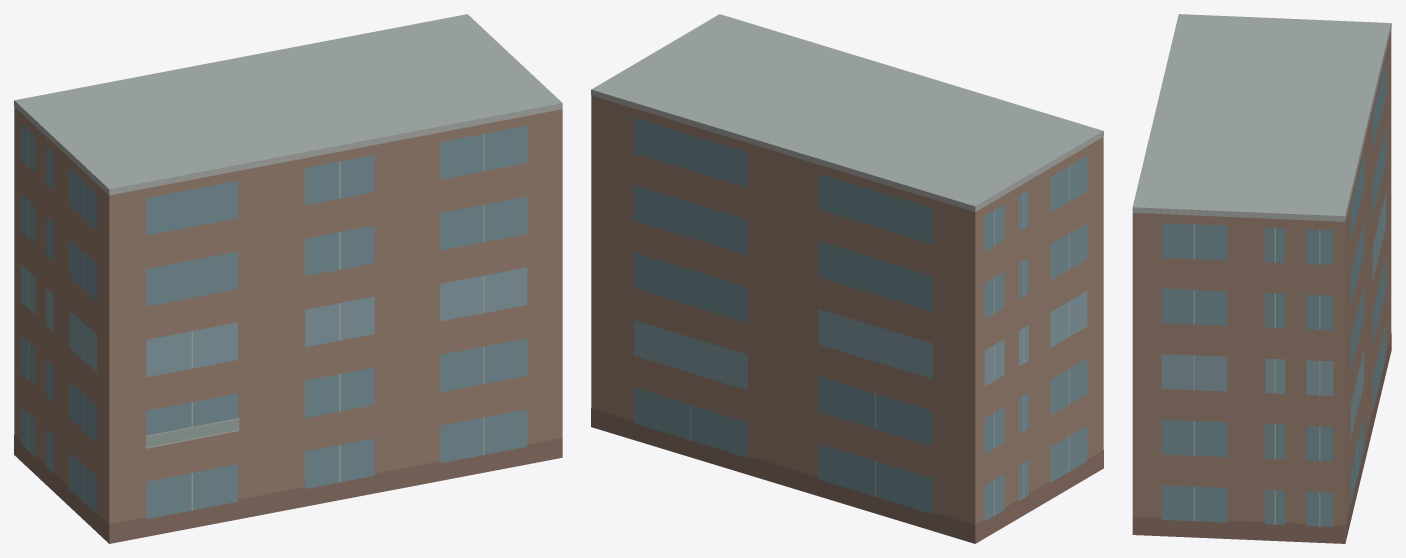
The model's file is survey-upis-32758157.glb.
3 renders of one model, left to right at view 1: azimuth 30°, elevation 25°; view 2: azimuth 150°, elevation 25°; view 3: azimuth 270°, elevation 25°, orthographic. The views are drawn at different scales.
Parts seen in each view (by area): view 1: survey-upis-32758157.tmp; view 2: survey-upis-32758157.tmp; view 3: survey-upis-32758157.tmp.
Part boxes in pixels (x1,y1,x2,y2): survey-upis-32758157.tmp: (14, 14, 562, 543); survey-upis-32758157.tmp: (591, 14, 1103, 543); survey-upis-32758157.tmp: (1132, 14, 1391, 543).
Size of the model in its own units: 18.8 by 14.2 by 10.18.
